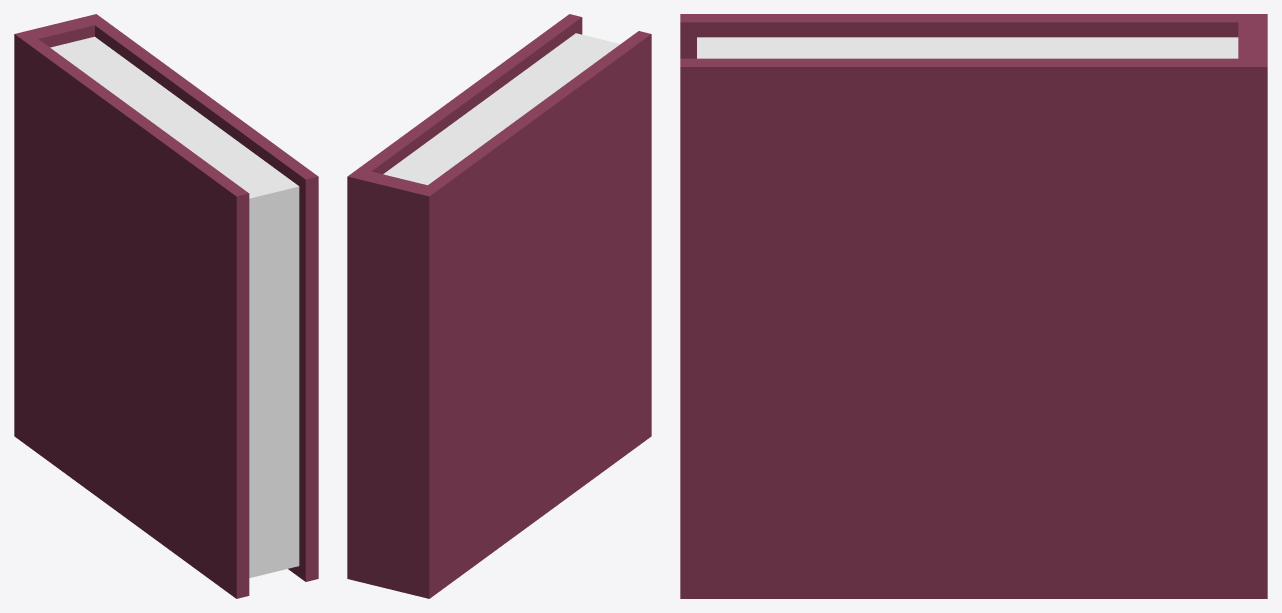
The model's file is bookthick.fbx.
The picture shows the model from 3 angles, left to right: view 1: azimuth 30°, elevation 25°; view 2: azimuth 150°, elevation 25°; view 3: azimuth 270°, elevation 25°; orthographic projection. The views are drawn at different scales.
Parts seen in each view (by area): view 1: pCube1; view 2: pCube1; view 3: pCube1.
Boxes of the visible parts, x1,y1,x2,y2 form: pCube1: [14, 14, 318, 598]; pCube1: [347, 14, 651, 598]; pCube1: [680, 14, 1267, 598].
Size of the model in its own units: 0.2098 by 0.9844 by 0.9844.
